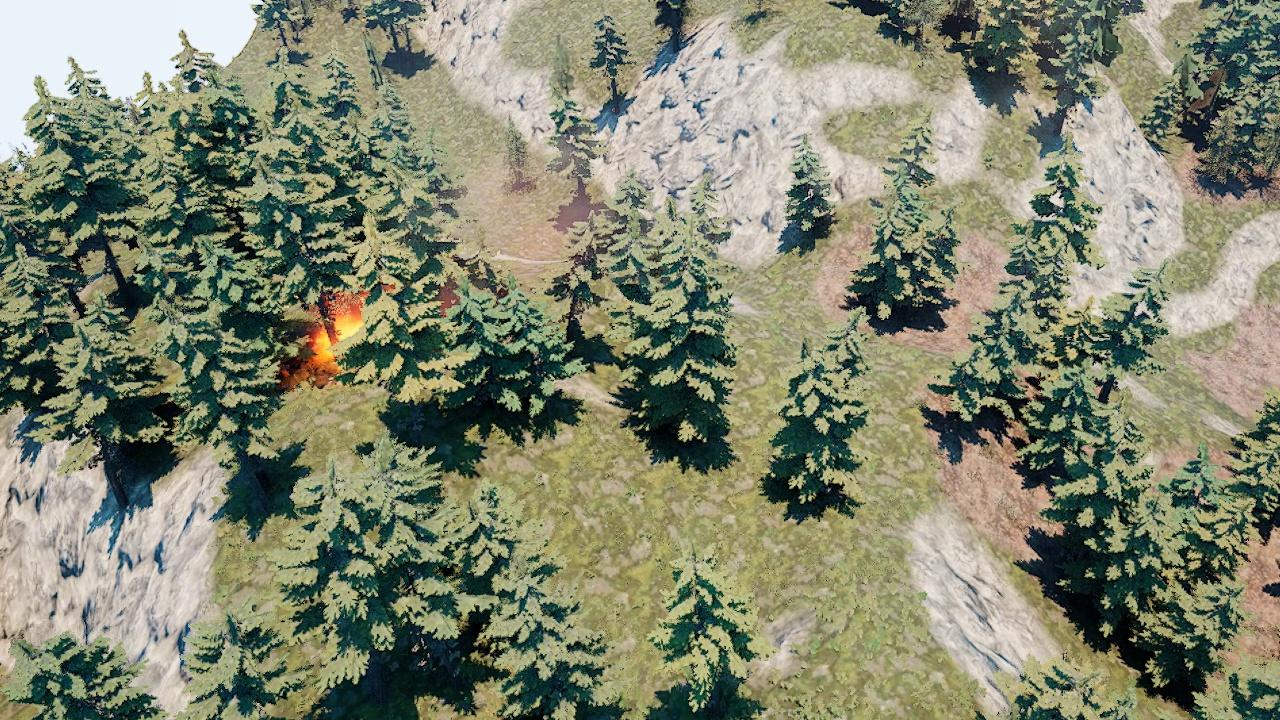fire: (312, 306, 366, 367)
